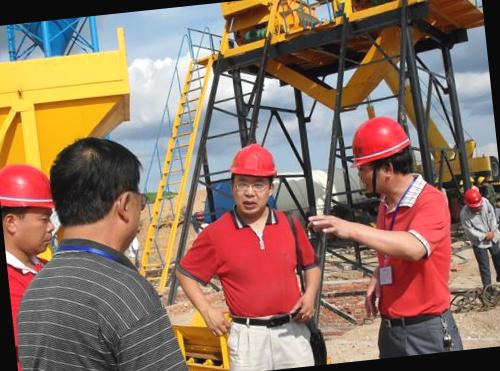no_helmet: (53, 131, 151, 258)
